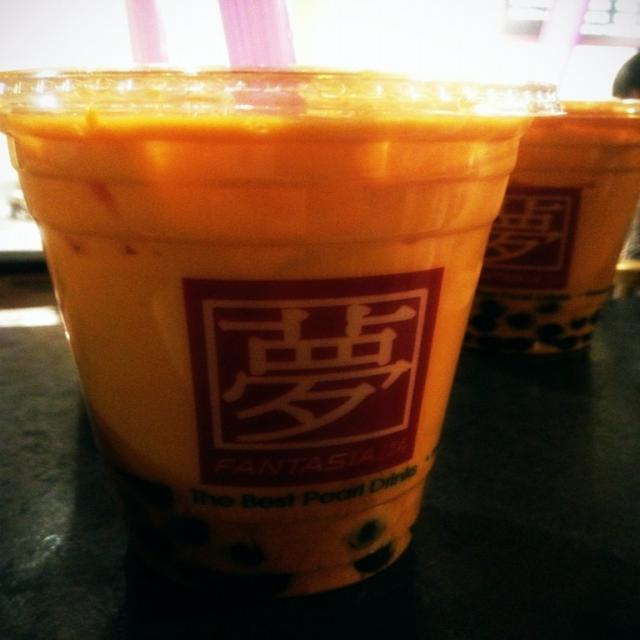Coffee: (13, 53, 547, 625)
